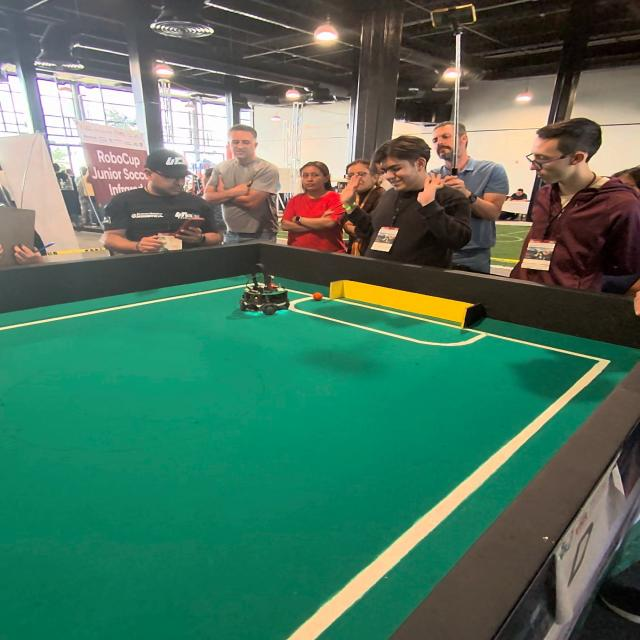Robot: (238, 260, 292, 318)
pelota: (313, 291, 323, 300)
